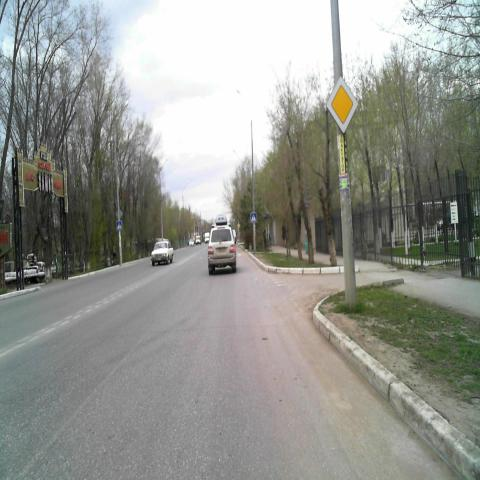2_1: (326, 74, 358, 134)
5_19_1: (250, 212, 257, 224), (116, 219, 122, 231)
